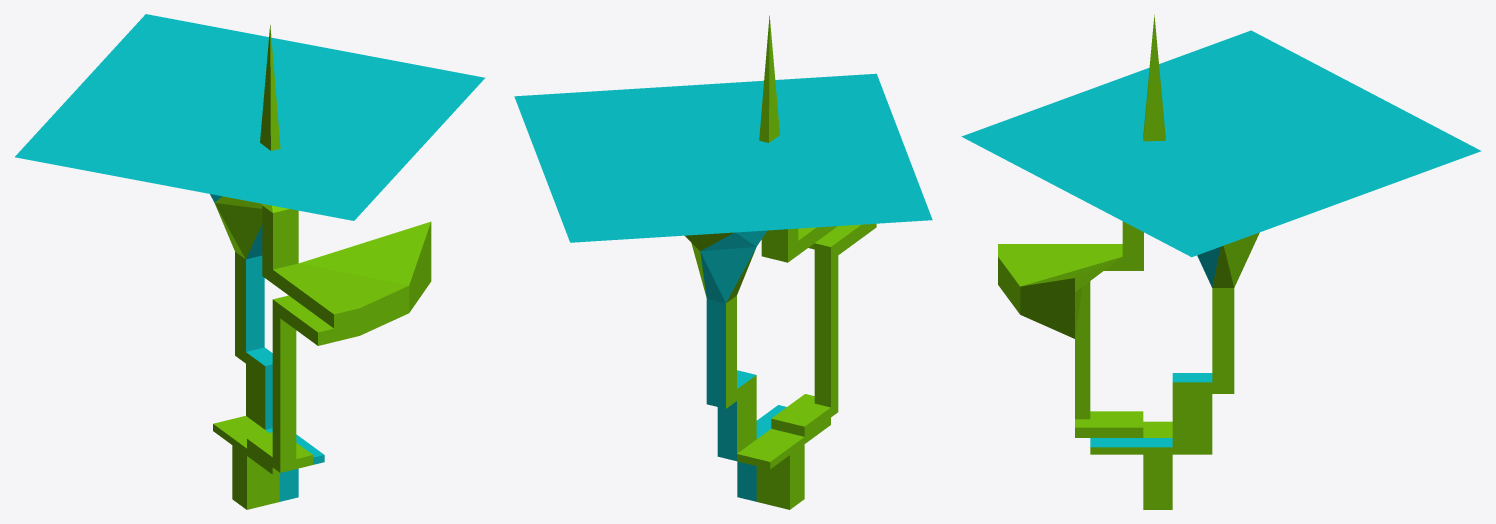
Rendered from tower2 ex.dae.
3 views of the same model, side by side, from view 1: azimuth 30°, elevation 25°; view 2: azimuth 150°, elevation 25°; view 3: azimuth 270°, elevation 25° (orthographic).
Visible parts, largest first — view 1: Cube; view 2: Cube; view 3: Cube.
Part boxes in pixels (left/top/right/bottom): Cube: left=15, top=14, right=485, bottom=509; Cube: left=514, top=15, right=932, bottom=509; Cube: left=961, top=14, right=1481, bottom=509.
Bounding box in the file's own units: 17.08 × 17.1 × 17.57.
